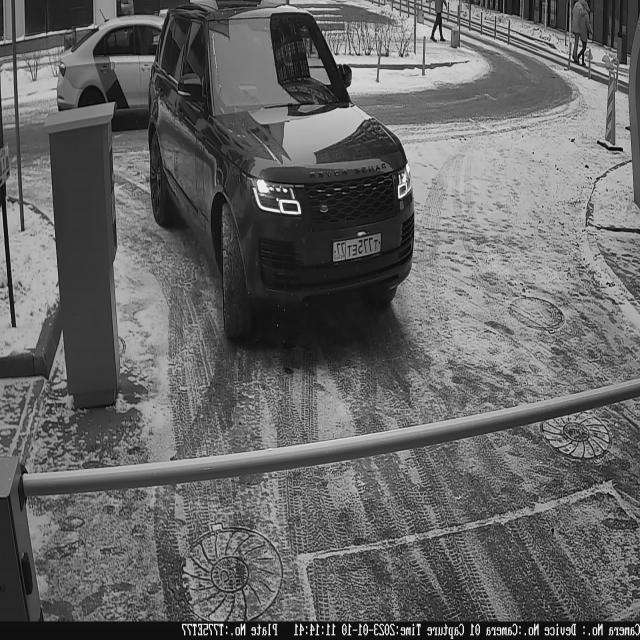car-plate-numbers: (332, 229, 387, 268)
